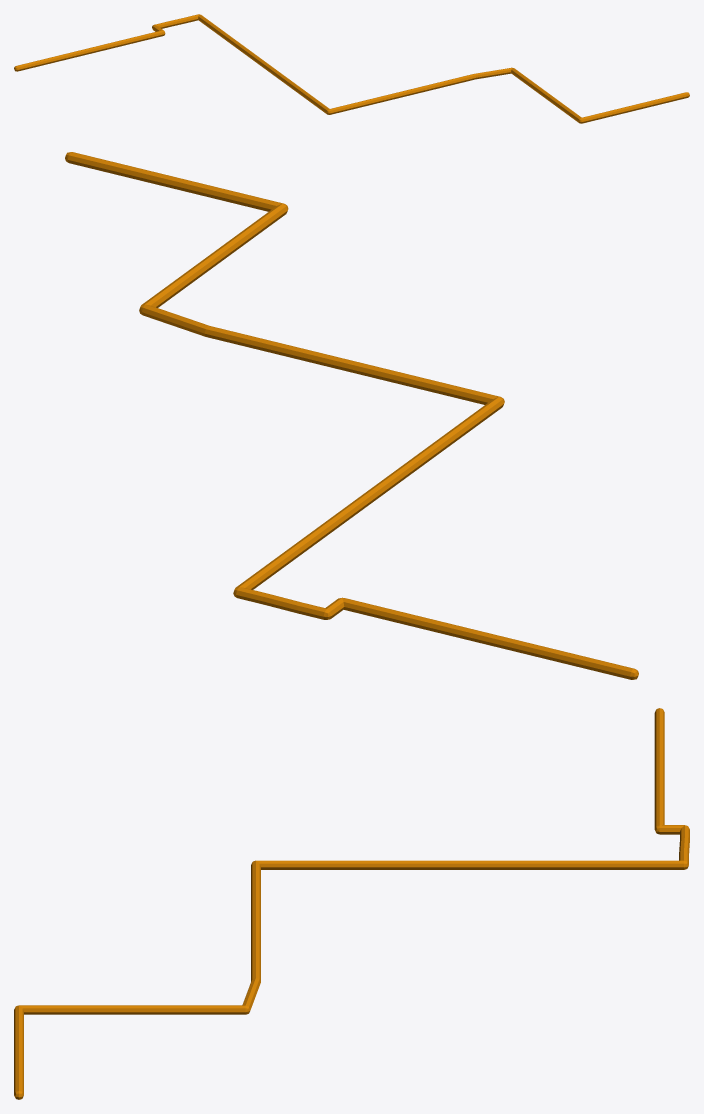
3 views of the same model, one above another, from view 1: azimuth 30°, elevation 25°; view 2: azimuth 150°, elevation 25°; view 3: azimuth 270°, elevation 25° (orthographic). The views are drawn at different scales.
Size of the model in its own units: 1817 by 20 by 1342.
